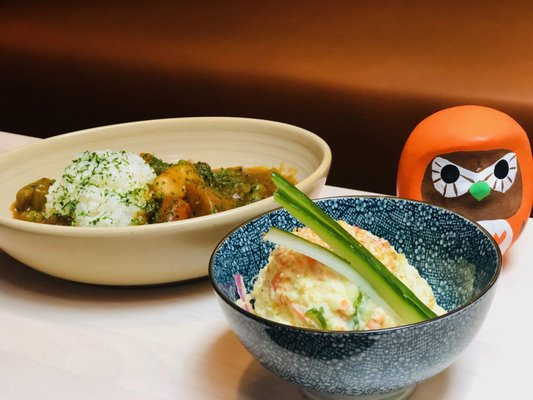curry: (43, 149, 160, 228)
sushi: (209, 181, 502, 400), (0, 116, 333, 289)
